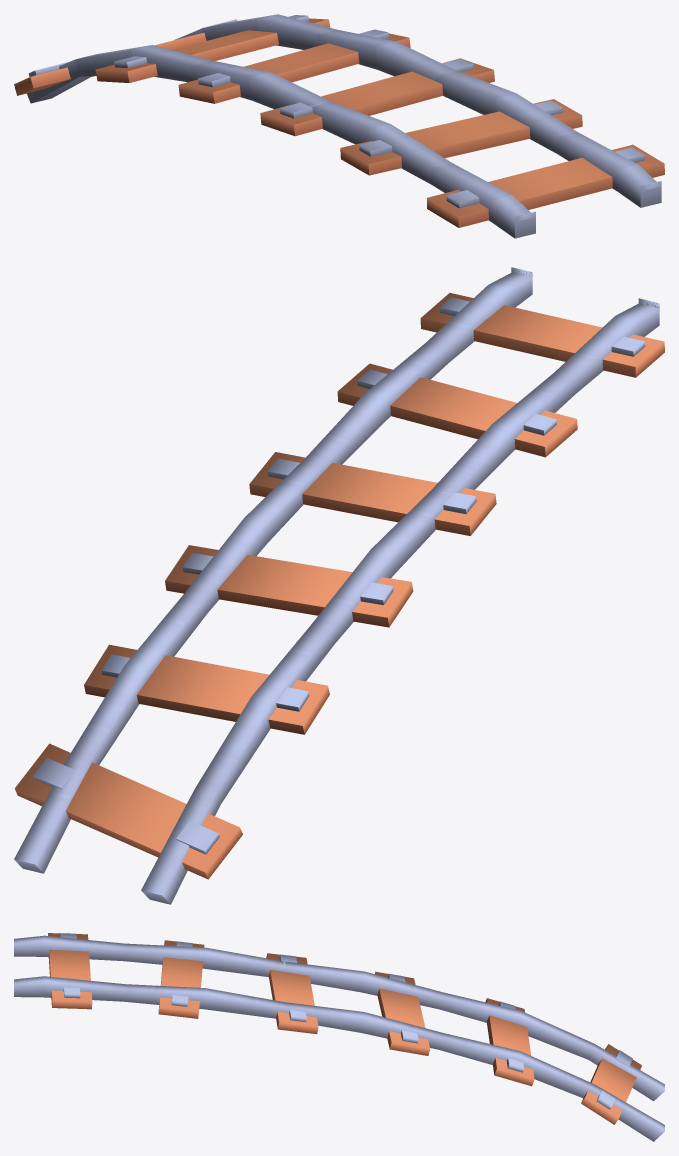
File: kenney-train-railroad-damaged-straight-hill-end.glb
The picture shows the model from 3 angles, top to bottom: view 1: azimuth 30°, elevation 25°; view 2: azimuth 150°, elevation 25°; view 3: azimuth 270°, elevation 25°; orthographic projection. The views are drawn at different scales.
Parts seen in each view (by area): view 1: railroad-damaged-straight-hill-end; view 2: railroad-damaged-straight-hill-end; view 3: railroad-damaged-straight-hill-end.
Boxes of the visible parts, bbox=[...] form: railroad-damaged-straight-hill-end: bbox=[14, 14, 664, 238]; railroad-damaged-straight-hill-end: bbox=[14, 267, 664, 904]; railroad-damaged-straight-hill-end: bbox=[14, 933, 664, 1141].
Bounding box in the file's own units: 1.03 × 1.1 × 4.07.
1 material, 1 textured.
